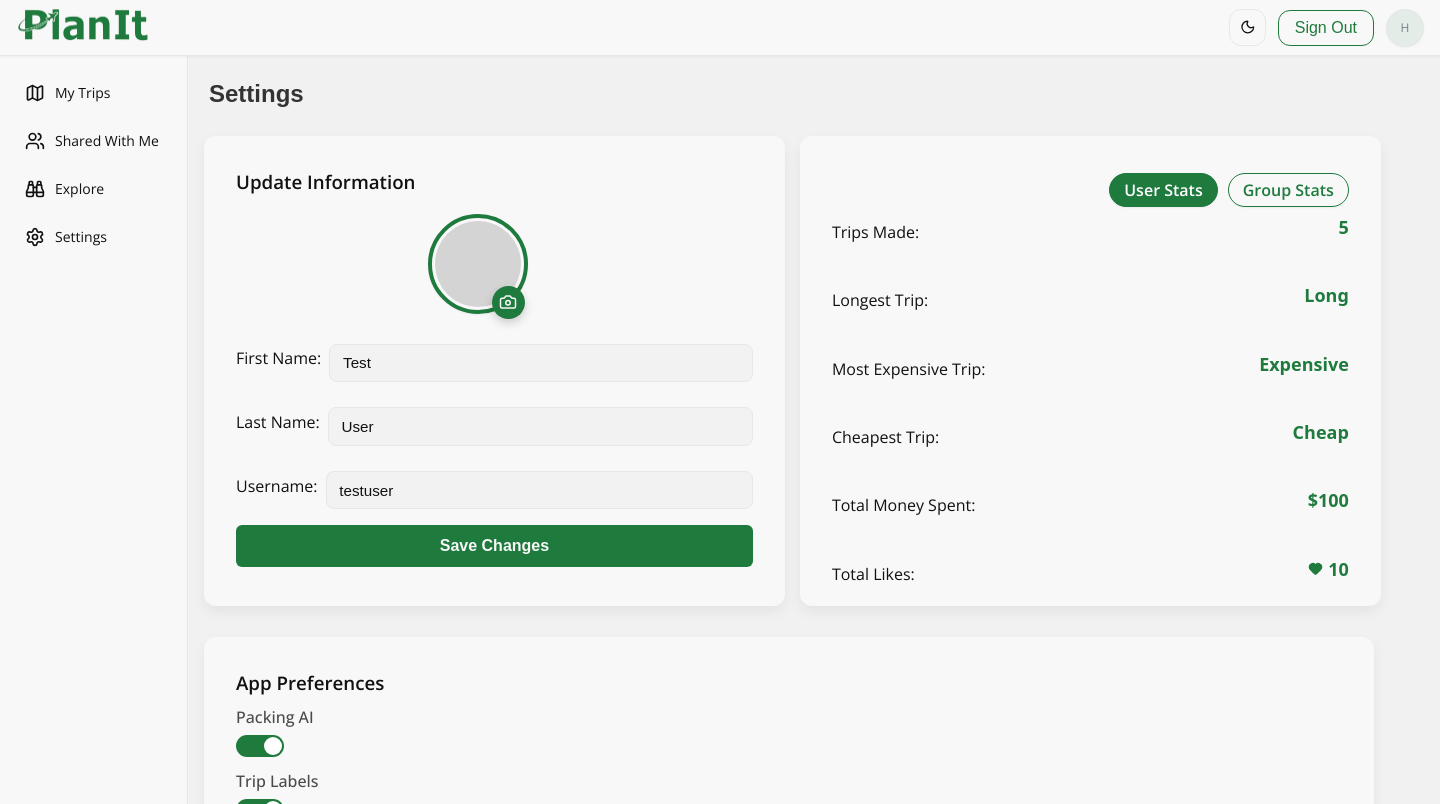
Scenario: SettingsPage › loads and displays group stats
Expected: the text "Long" is shown, top-left (1304, 285), bottom-right (1349, 307)
// Click Group Stats tab
Click the button "Group Stats" at [1288, 190], box top-left (1228, 173), bottom-right (1349, 207)
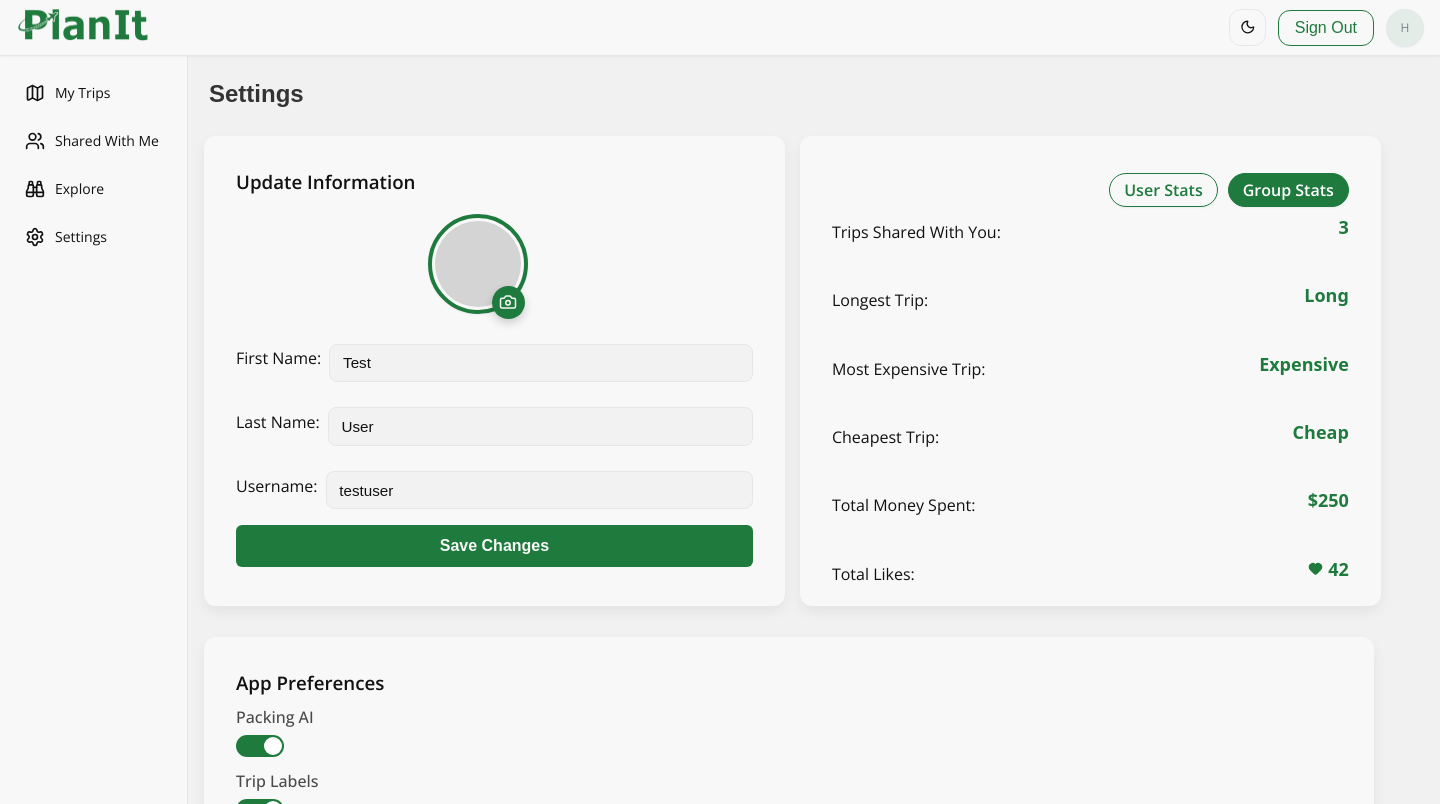
Result: the text "Trips Shared With You:" is shown at top-left (832, 221), bottom-right (1001, 243)
Result: the text "3" is shown at top-left (1338, 217), bottom-right (1349, 239)
Result: the text "$250" is shown at top-left (1308, 490), bottom-right (1349, 512)
